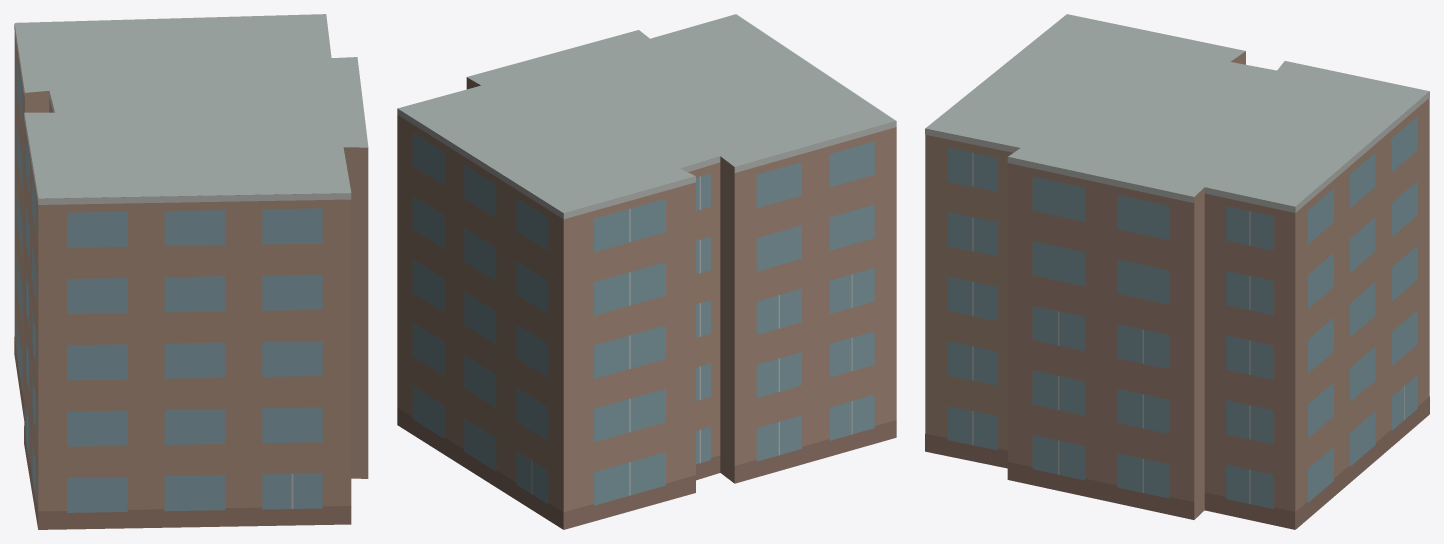
The model's file is survey-upis-32673882.glb.
The picture shows the model from 3 angles, left to right: view 1: azimuth 30°, elevation 25°; view 2: azimuth 150°, elevation 25°; view 3: azimuth 270°, elevation 25°; orthographic projection. The views are drawn at different scales.
Visible parts, largest first — view 1: survey-upis-32673882.tmp; view 2: survey-upis-32673882.tmp; view 3: survey-upis-32673882.tmp.
Part boxes in pixels (bbox=[...]): survey-upis-32673882.tmp: bbox=[14, 14, 368, 529]; survey-upis-32673882.tmp: bbox=[397, 14, 896, 529]; survey-upis-32673882.tmp: bbox=[925, 14, 1429, 529].
Bounding box in the file's own units: 16.13 × 12.6 × 17.84.
